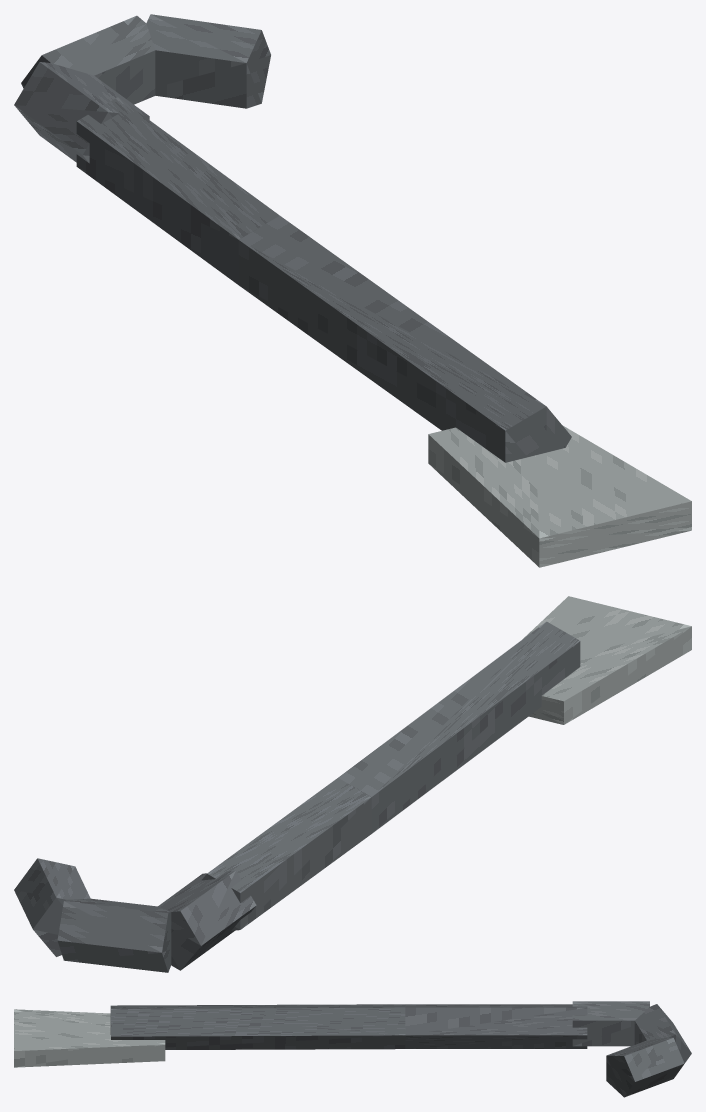
The model's file is claw_bar.glb.
3 renders of one model, top to bottom at view 1: azimuth 30°, elevation 25°; view 2: azimuth 150°, elevation 25°; view 3: azimuth 270°, elevation 25°, orthographic. The views are drawn at different scales.
Parts seen in each view (by area): view 1: block_steel shaft 1, block_flattened pry tip, block_steel shaft 0, block_curved end 2, block_curved end 0, block_curved end 1; view 2: block_steel shaft 1, block_flattened pry tip, block_steel shaft 0, block_curved end 1, block_curved end 0, block_curved end 2; view 3: block_steel shaft 1, block_steel shaft 0, block_flattened pry tip, block_curved end 2, block_curved end 0, block_curved end 1.
Boxes of the visible parts, bbox=[...] form: block_steel shaft 1: bbox=[238, 215, 571, 462]; block_flattened pry tip: bbox=[428, 425, 691, 567]; block_steel shaft 0: bbox=[76, 97, 279, 284]; block_curved end 2: bbox=[146, 14, 270, 108]; block_curved end 0: bbox=[14, 62, 149, 163]; block_curved end 1: bbox=[21, 15, 155, 104]; block_steel shaft 1: bbox=[338, 621, 580, 833]; block_flattened pry tip: bbox=[522, 596, 691, 724]; block_steel shaft 0: bbox=[202, 778, 371, 930]; block_curved end 1: bbox=[57, 898, 171, 972]; block_curved end 0: bbox=[158, 870, 256, 970]; block_curved end 2: bbox=[14, 858, 90, 956]; block_steel shaft 1: bbox=[110, 1004, 405, 1049]; block_steel shaft 0: bbox=[405, 1004, 587, 1048]; block_flattened pry tip: bbox=[14, 1009, 165, 1067]; block_curved end 2: bbox=[606, 1037, 684, 1097]; block_curved end 0: bbox=[572, 1001, 649, 1046]; block_curved end 1: bbox=[634, 1004, 691, 1063].
Bounding box in the file's own units: 0.0653 × 0.0166 × 0.24.
1 material, 1 textured.
